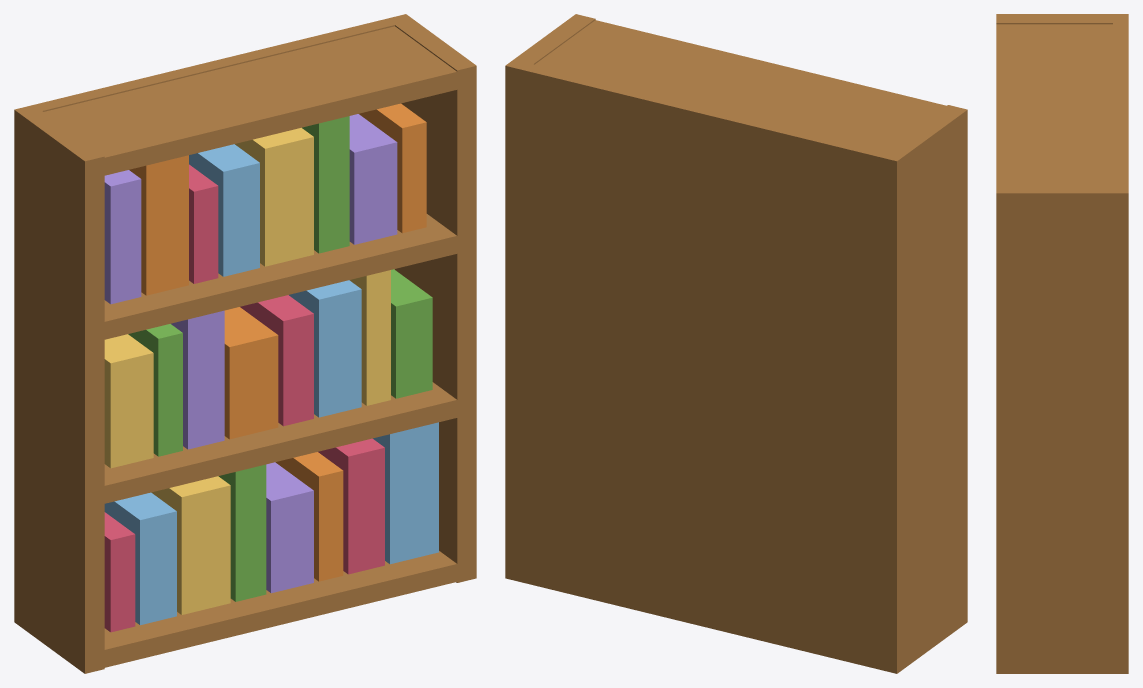
The model's file is shelf.glb.
The picture shows the model from 3 angles, left to right: view 1: azimuth 30°, elevation 25°; view 2: azimuth 150°, elevation 25°; view 3: azimuth 270°, elevation 25°; orthographic projection. The views are drawn at different scales.
Bounding box in the file's own units: 1.6 × 2 × 0.5.
